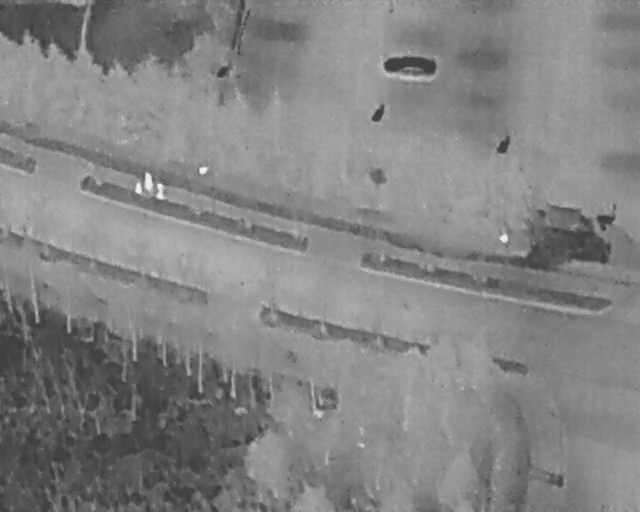Car: (529, 202, 614, 265), (381, 52, 437, 76)
Person: (155, 181, 165, 200), (144, 170, 153, 191), (133, 179, 142, 199)
